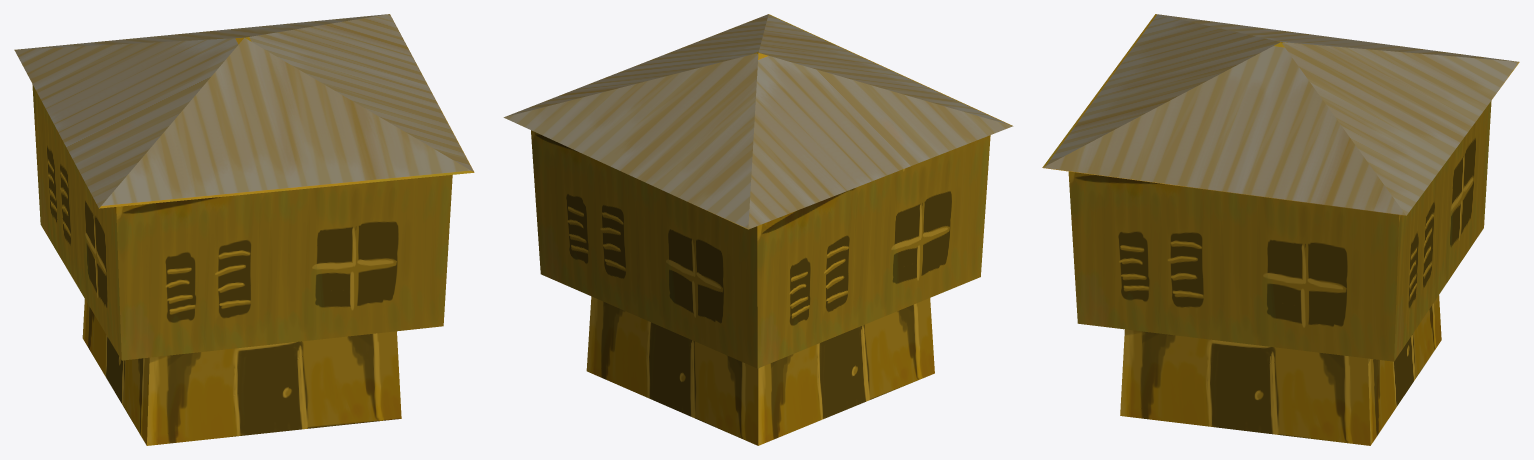
The model's file is building1.fbx.
3 renders of one model, left to right at view 1: azimuth 30°, elevation 25°; view 2: azimuth 150°, elevation 25°; view 3: azimuth 270°, elevation 25°, orthographic. The views are drawn at different scales.
Parts seen in each view (by area): view 1: building1; view 2: building1; view 3: building1.
Part boxes in pixels (bbox=[...]): building1: bbox=[14, 14, 474, 445]; building1: bbox=[503, 14, 1013, 445]; building1: bbox=[1042, 14, 1519, 445].
Size of the model in its own units: 8.47 by 6.59 by 8.47.
